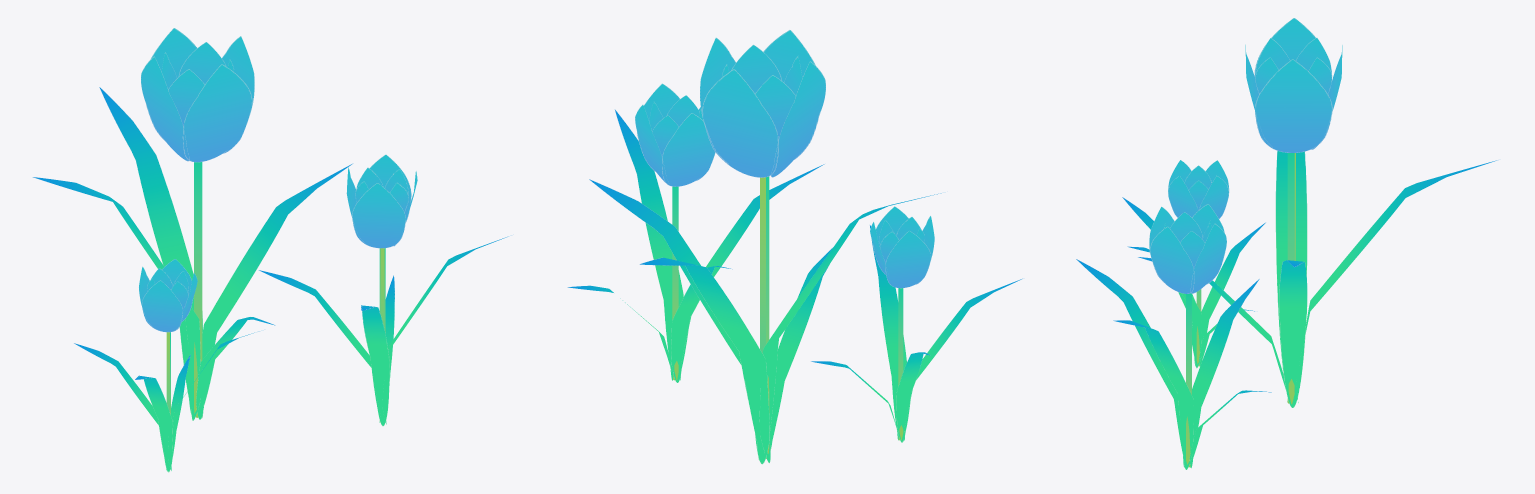
File: Flowers_n02_19.fbx
3 renders of one model, left to right at view 1: azimuth 30°, elevation 25°; view 2: azimuth 150°, elevation 25°; view 3: azimuth 270°, elevation 25°, orthographic. The views are drawn at different scales.
Visible parts, largest first — view 1: polySurface300; view 2: polySurface300; view 3: polySurface300.
Boxes of the visible parts, x1,y1,x2,y2 form: polySurface300: (32, 28, 511, 472); polySurface300: (567, 30, 1022, 464); polySurface300: (1076, 18, 1497, 469).
Size of the model in its own units: 46.85 by 41.64 by 44.58.
1 material, 1 textured.
